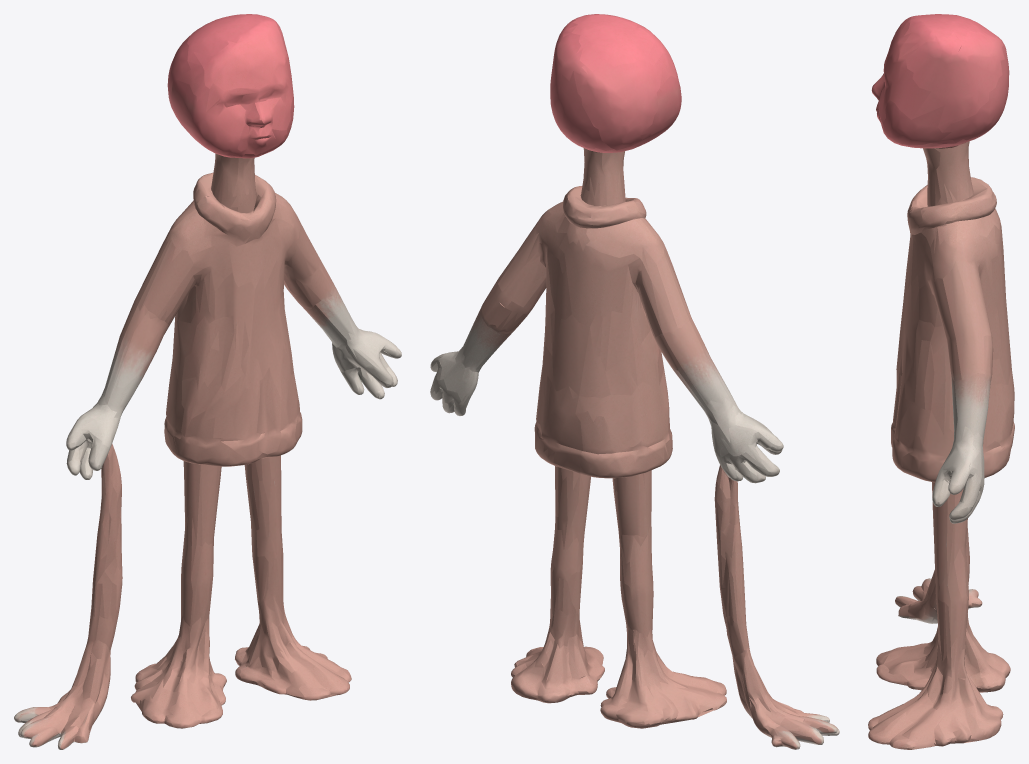
3 views of the same model, side by side, from view 1: azimuth 30°, elevation 25°; view 2: azimuth 150°, elevation 25°; view 3: azimuth 270°, elevation 25° (orthographic). The views are drawn at different scales.
Bounding box in the file's own units: 1.18 × 1.9 × 0.3699.
Materials: 1 (1 with a texture image).
